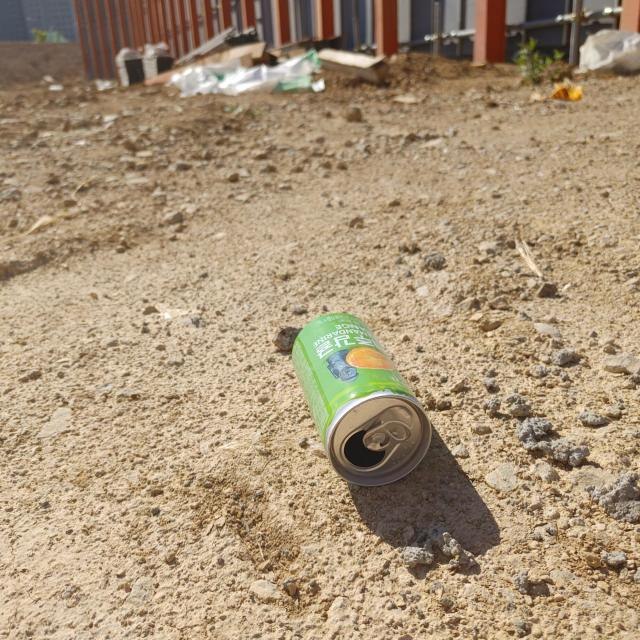can: (292, 313, 432, 486)
